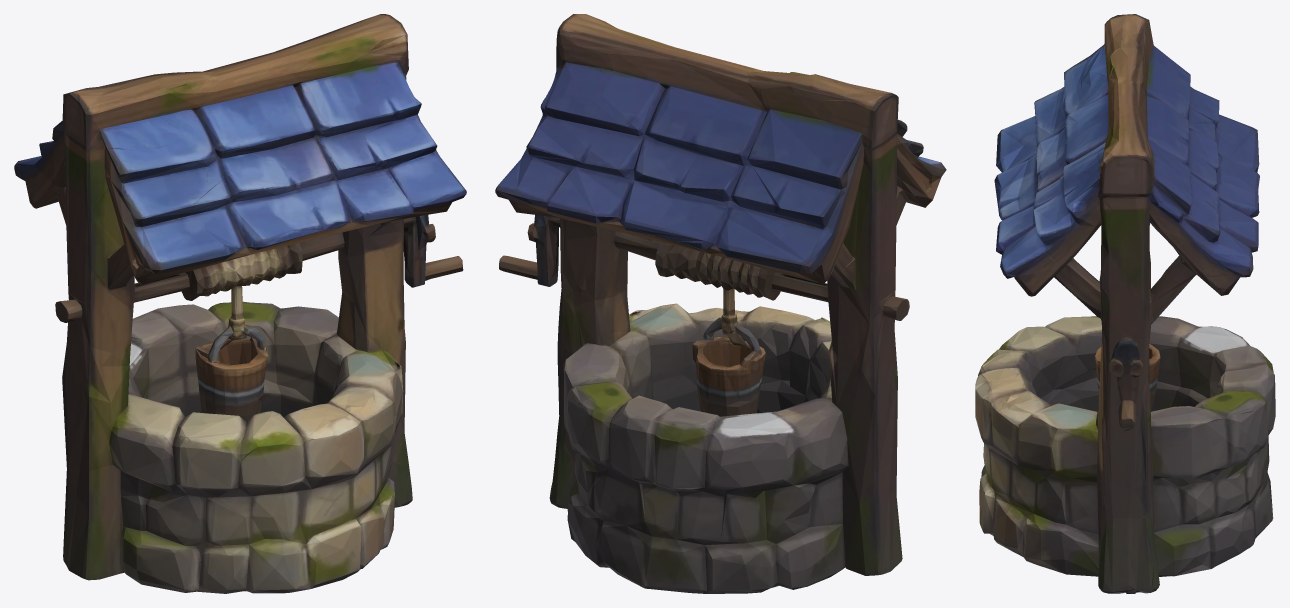
File: well.glb
3 views of the same model, side by side, from view 1: azimuth 30°, elevation 25°; view 2: azimuth 150°, elevation 25°; view 3: azimuth 270°, elevation 25° (orthographic). The views are drawn at different scales.
Visible parts, largest first — view 1: world; view 2: world; view 3: world.
Boxes of the visible parts, bbox=[...] form: world: bbox=[14, 14, 466, 593]; world: bbox=[495, 14, 946, 593]; world: bbox=[975, 14, 1275, 593].
Size of the model in its own units: 0.8712 by 0.9934 by 0.619.
1 material, 1 textured.
